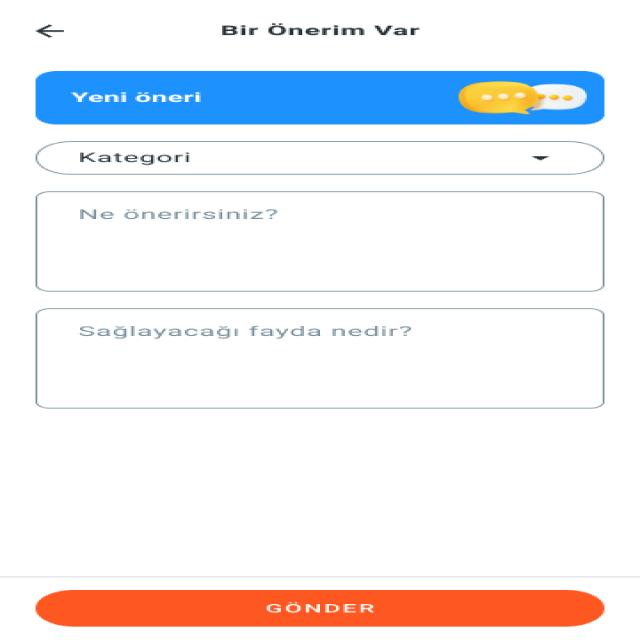QLabel: (216, 22, 427, 37), (69, 90, 209, 104), (262, 602, 377, 613)
VAppBar: (1, 0, 640, 58)
VBtn: (30, 589, 619, 628)
VCard: (31, 70, 609, 126)
VCombobox: (36, 140, 604, 176)
VFooter: (0, 576, 640, 640)
VIcon: (33, 24, 68, 39)
VImg: (456, 81, 589, 115)
VTextarea: (29, 191, 610, 294), (31, 306, 608, 409)
